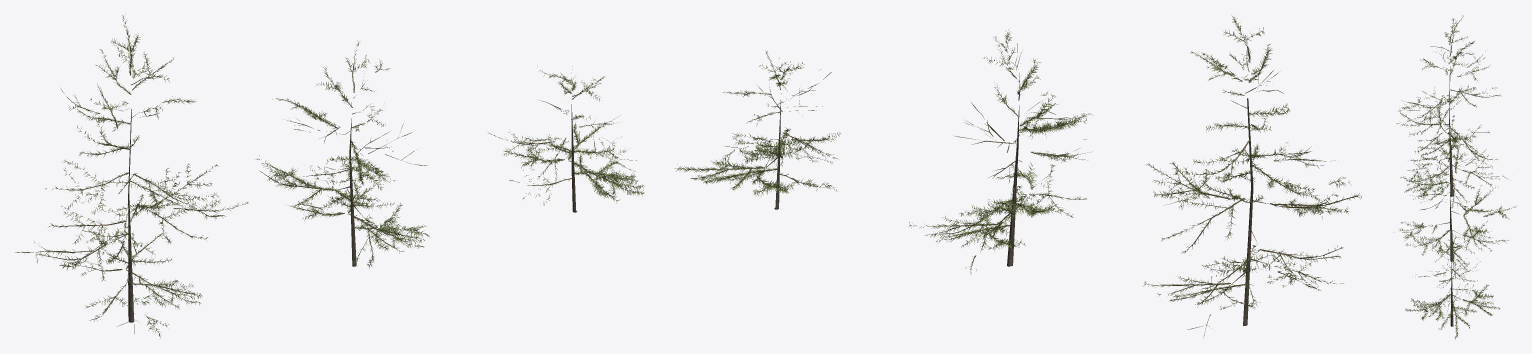
File: fir_sapling_near.glb
3 renders of one model, left to right at view 1: azimuth 30°, elevation 25°; view 2: azimuth 150°, elevation 25°; view 3: azimuth 270°, elevation 25°, orthographic. The views are drawn at different scales.
Visible parts, largest first — view 1: fir_sapling_a, fir_sapling_b, fir_sapling_c; view 2: fir_sapling_a, fir_sapling_b, fir_sapling_c; view 3: fir_sapling_a, fir_sapling_b, fir_sapling_c.
Boxes of the visible parts, x1,y1,x2,y2 form: fir_sapling_a: [15, 15, 248, 337]; fir_sapling_b: [256, 40, 429, 268]; fir_sapling_c: [488, 66, 644, 212]; fir_sapling_a: [1143, 16, 1361, 337]; fir_sapling_b: [909, 30, 1093, 273]; fir_sapling_c: [674, 50, 840, 209]; fir_sapling_a: [1397, 15, 1507, 208]; fir_sapling_b: [1399, 130, 1516, 273]; fir_sapling_c: [1405, 232, 1499, 339].
Size of the model in its own units: 2.74 by 1.3 by 0.807.
Materials: 2 (2 with a texture image).
